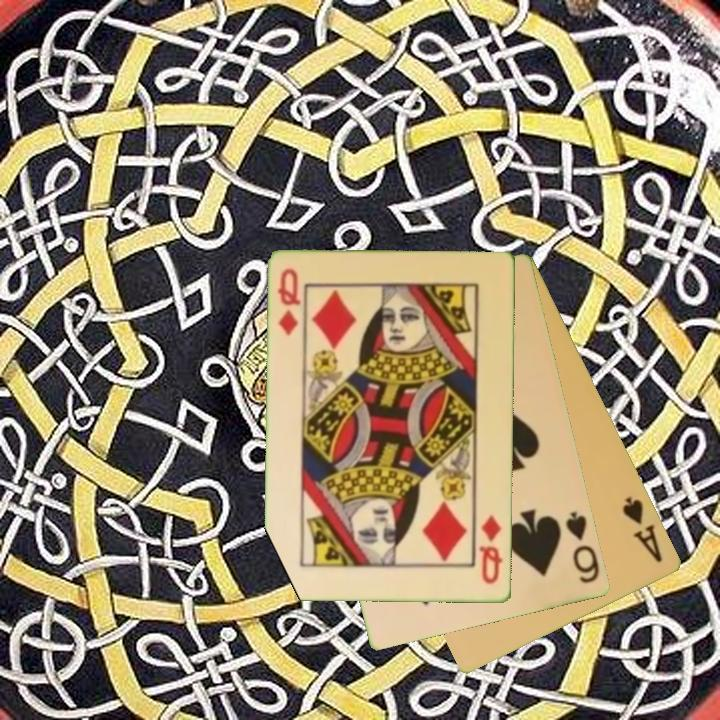6s: (563, 508, 603, 587)
As: (619, 493, 666, 566)
Qd: (275, 265, 305, 339), (476, 513, 505, 588)
